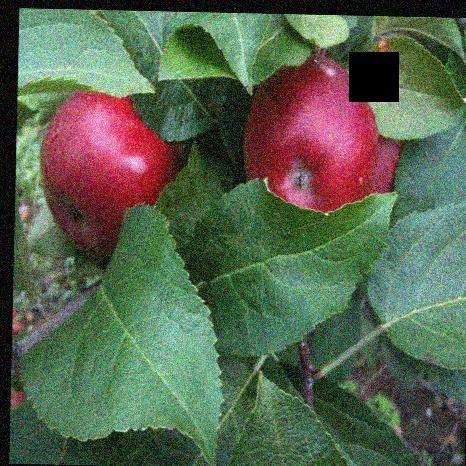red apple: (34, 83, 192, 263), (238, 53, 397, 217)
